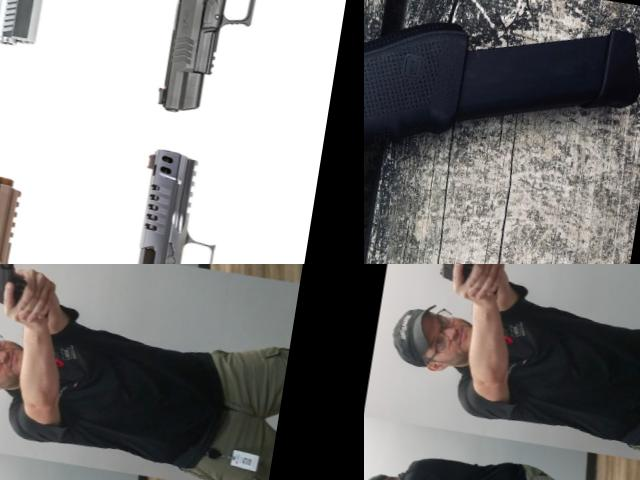handgun: (364, 0, 533, 264), (151, 0, 334, 134), (122, 142, 310, 264), (0, 164, 133, 264), (0, 0, 164, 66), (0, 264, 61, 319), (429, 264, 510, 300), (2, 264, 33, 269), (451, 264, 482, 269)
